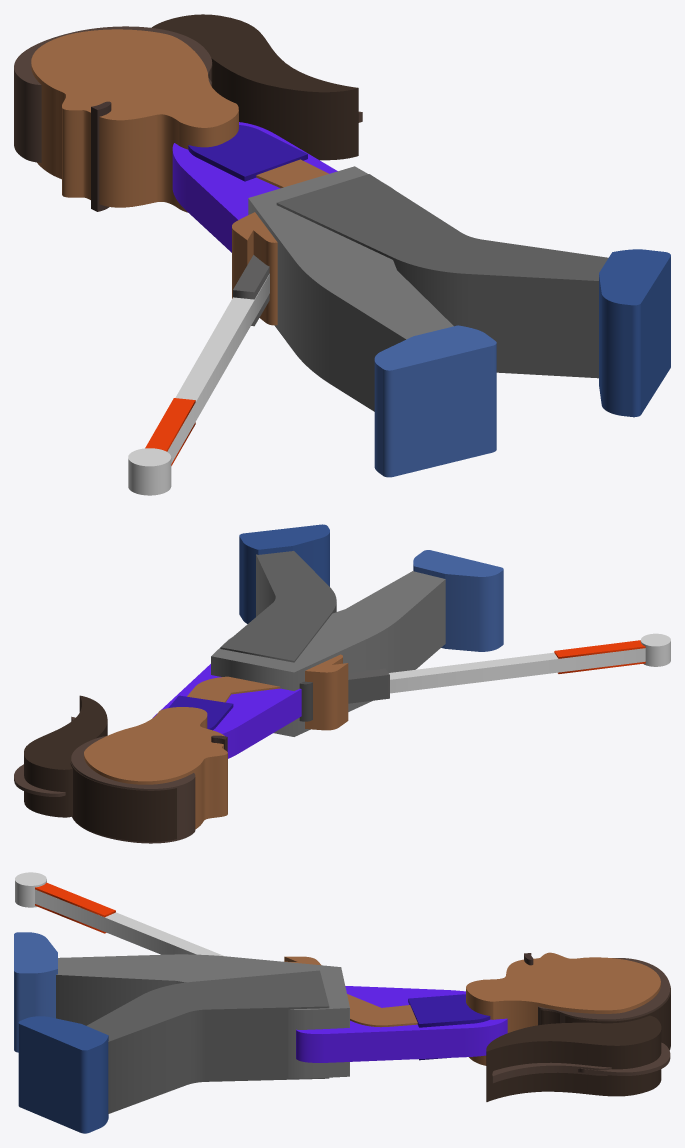
Rendered from emoji_u1f469_1f3fe_200d_1f9af.glb.
3 views of the same model, one above another, from view 1: azimuth 30°, elevation 25°; view 2: azimuth 150°, elevation 25°; view 3: azimuth 270°, elevation 25° (orthographic). The views are drawn at different scales.
Visible parts, largest first — view 1: emoji_u1f469_1f3fe_200d_1f9af; view 2: emoji_u1f469_1f3fe_200d_1f9af; view 3: emoji_u1f469_1f3fe_200d_1f9af.
Boxes of the visible parts, box(x1,y1,x2,y2) form: emoji_u1f469_1f3fe_200d_1f9af: box(14, 14, 670, 495); emoji_u1f469_1f3fe_200d_1f9af: box(14, 524, 670, 843); emoji_u1f469_1f3fe_200d_1f9af: box(14, 872, 670, 1133).
Bounding box in the file's own units: 0.0248 × 0.0046 × 0.033.
